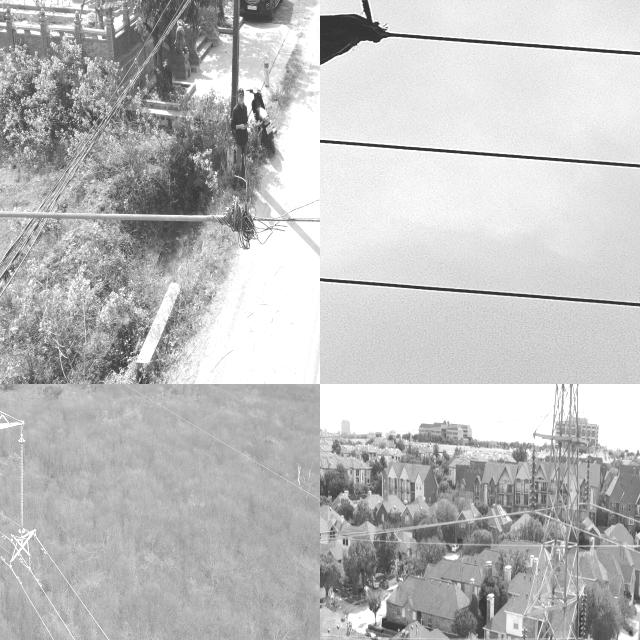杆塔: (524, 384, 586, 640)
植被遮挡: (320, 0, 416, 67)
正常绝缘子: (12, 424, 36, 552), (527, 438, 542, 516), (582, 445, 594, 509), (578, 582, 591, 640), (517, 622, 529, 640)
电缆破损: (217, 173, 320, 249)
